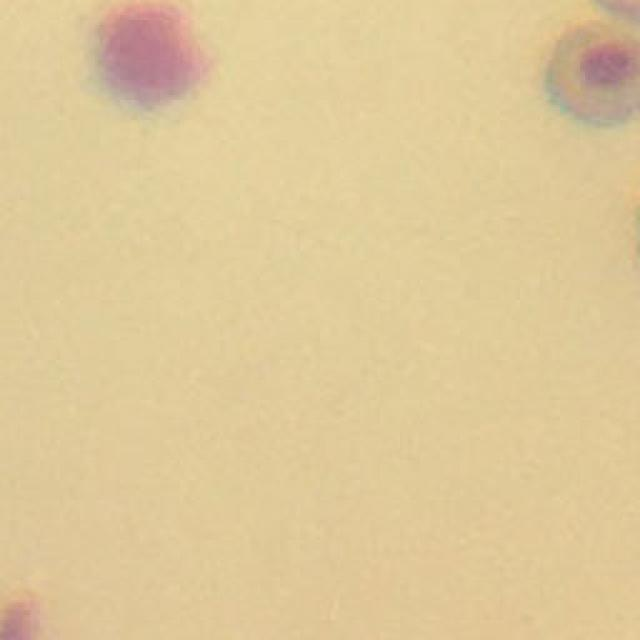RBC: (550, 22, 640, 122)
WBC: (100, 2, 210, 105), (0, 602, 38, 640)
